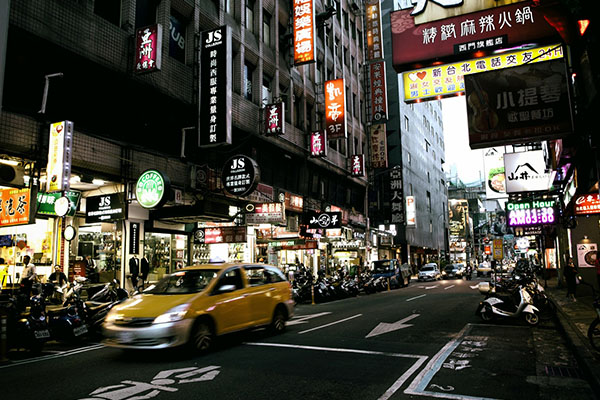car: (109, 261, 301, 351)
pedestrian: (18, 255, 41, 285)
scooter: (479, 286, 544, 323)
